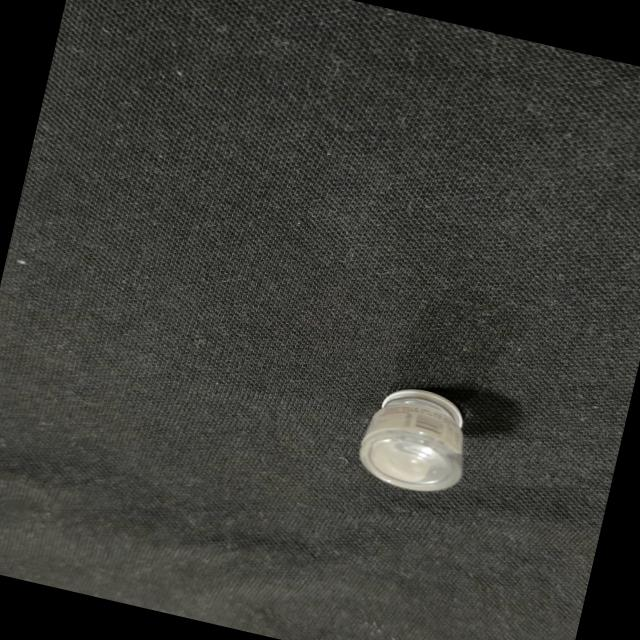fentanl_citrat: (354, 380, 476, 498)
